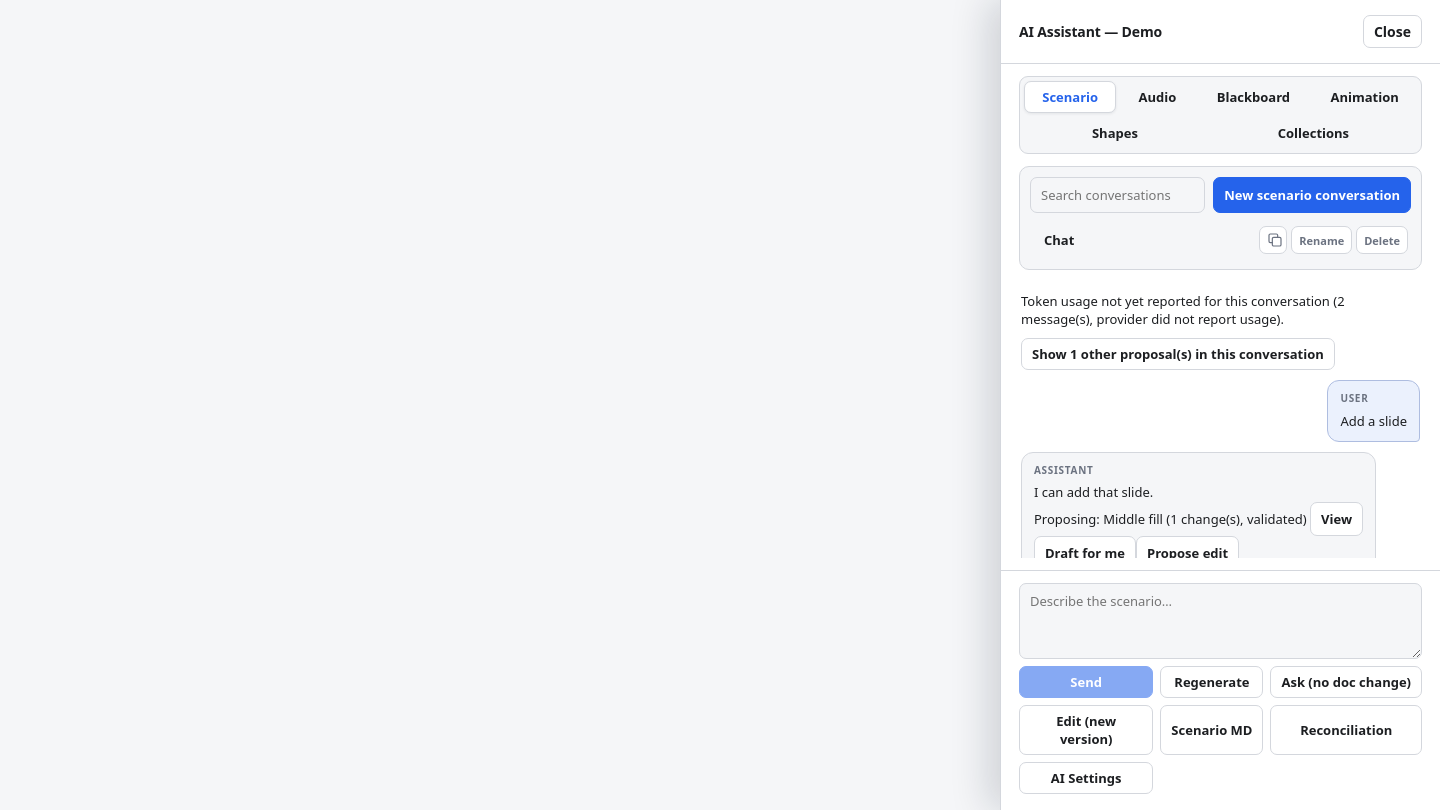
Test: AiPanel inline proposals › drafts a proposal from the assistant message and reviews it
What coordinates should you click on to do the following:
click the button with test id "ai-message-draft-m-1"
I would click on:
 (1085, 553)
Its box is [1034,536,1136,570].
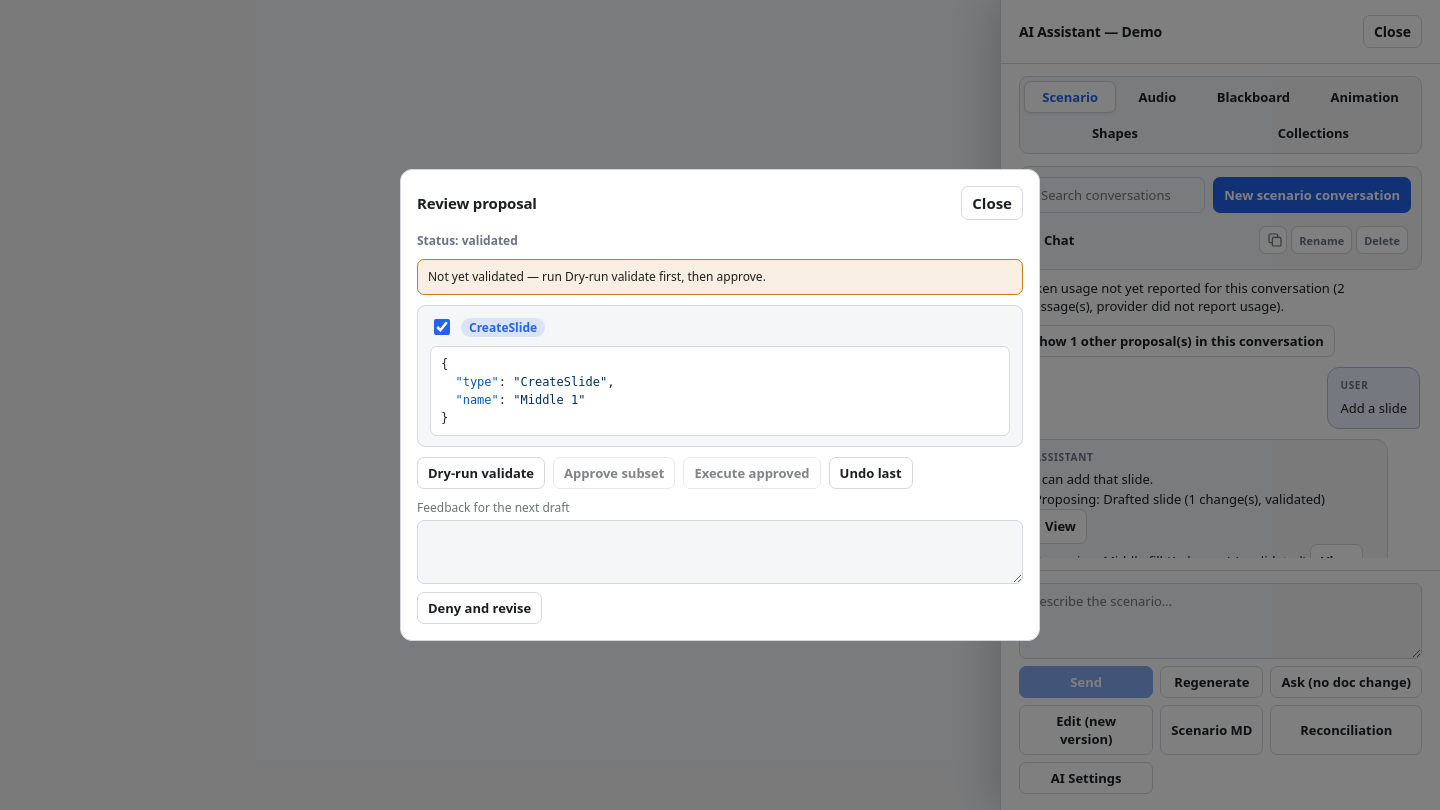
Now the element with test id "ai-proposal-prop-drafted" is shown, box [417,232,1023,624]
Now the element with test id "ai-proposal-prop-drafted" shows "CreateSlide", box [469,318,537,336]
Now the element with test id "ai-message-proposal-prop-drafted" shows "Drafted slide", box [1103,490,1181,508]
